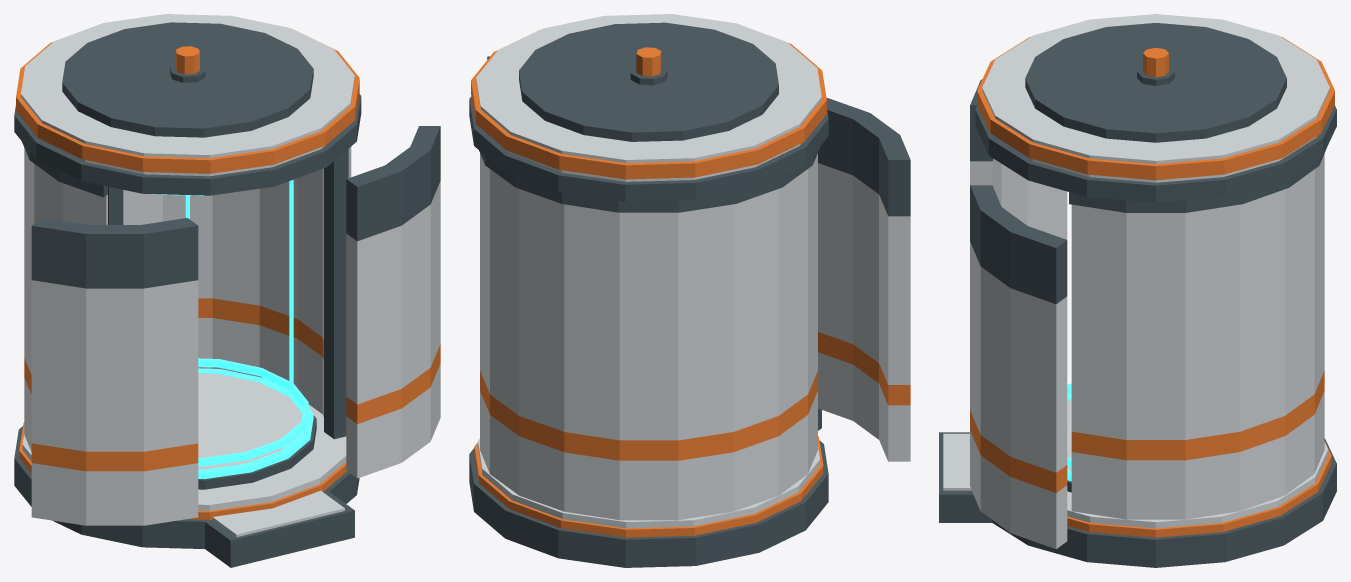
File: HealPod_Proxy.fbx
The picture shows the model from 3 angles, left to right: view 1: azimuth 30°, elevation 25°; view 2: azimuth 150°, elevation 25°; view 3: azimuth 270°, elevation 25°; orthographic projection. The views are drawn at different scales.
Visible parts, largest first — view 1: HealPod_Top, HealPod_Door_L, HealPod_Body, HealPod_Door_R, HealPod_Base, HealPod_Platform, HealPod_Chamber, HealPod_Indicator; view 2: HealPod_Body, HealPod_Top, HealPod_Door_L, HealPod_Base, HealPod_Indicator; view 3: HealPod_Body, HealPod_Top, HealPod_Door_R, HealPod_Base, HealPod_Door_L, HealPod_Indicator.
Part boxes in pixels (<box>): HealPod_Top: <box>14,14,361,195</box>; HealPod_Door_L: <box>31,218,198,525</box>; HealPod_Body: <box>22,142,351,451</box>; HealPod_Door_R: <box>346,126,440,478</box>; HealPod_Base: <box>14,404,359,567</box>; HealPod_Platform: <box>198,368,316,489</box>; HealPod_Chamber: <box>154,180,308,466</box>; HealPod_Indicator: <box>170,46,205,82</box>; HealPod_Body: <box>479,146,820,520</box>; HealPod_Top: <box>469,14,828,201</box>; HealPod_Door_L: <box>818,98,910,461</box>; HealPod_Base: <box>469,408,828,567</box>; HealPod_Indicator: <box>630,47,667,85</box>; HealPod_Body: <box>1069,150,1325,519</box>; HealPod_Top: <box>975,14,1336,202</box>; HealPod_Door_R: <box>970,185,1067,549</box>; HealPod_Base: <box>939,392,1336,567</box>; HealPod_Door_L: <box>970,79,1067,239</box>; HealPod_Indicator: <box>1137,47,1174,85</box>.
Size of the model in its own units: 2.83 by 2.81 by 2.31.
